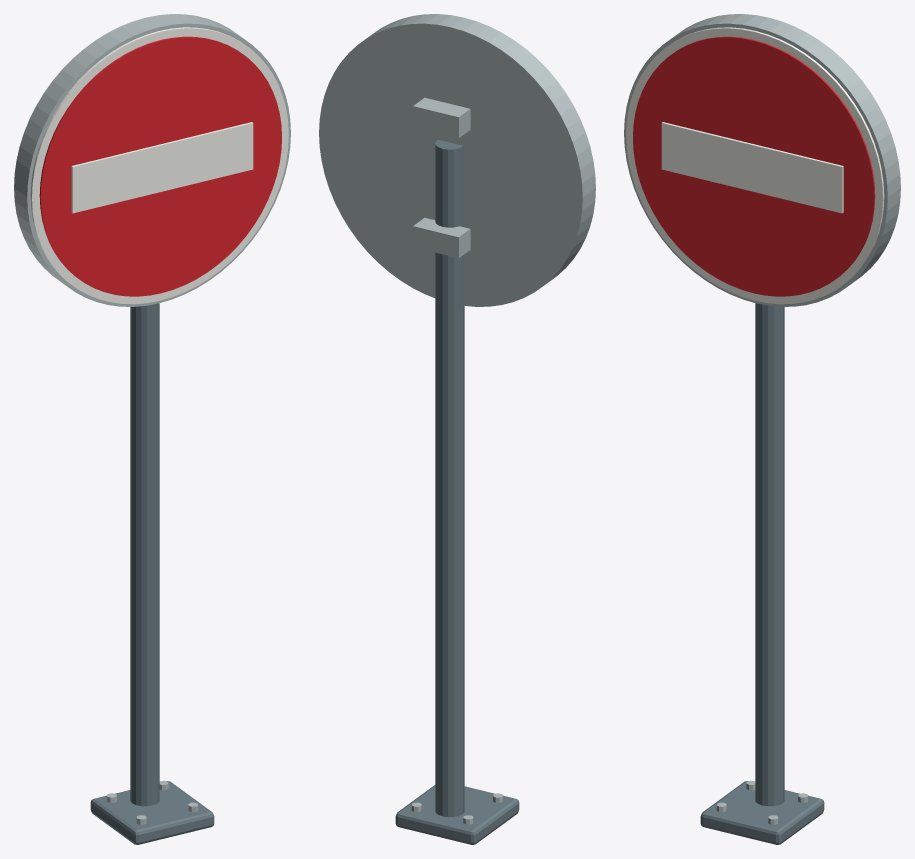
The model's file is SIMUS_Sign_NoEntry.glb.
3 renders of one model, left to right at view 1: azimuth 30°, elevation 25°; view 2: azimuth 150°, elevation 25°; view 3: azimuth 330°, elevation 25°, orthographic.
Visible parts, largest first — view 1: Red face.001, Post.002, No entry bar, Circle back.001, White rim.001, Foot plate.002; view 2: Circle back.001, Post.002, Foot plate.002, Rear clamp.005, Rear clamp.004; view 3: Red face.001, Post.002, No entry bar, Circle back.001, White rim.001, Foot plate.002.
Boxes of the visible parts, x1,y1,x2,y2 form: Red face.001: [39, 36, 281, 296]; Post.002: [130, 303, 159, 806]; No entry bar: [71, 122, 253, 213]; Circle back.001: [14, 14, 290, 306]; White rim.001: [30, 27, 288, 304]; Foot plate.002: [90, 781, 214, 844]; Circle back.001: [319, 14, 595, 306]; Post.002: [435, 139, 464, 817]; Foot plate.002: [395, 785, 519, 844]; Rear clamp.005: [413, 97, 470, 138]; Rear clamp.004: [413, 217, 470, 258]; Red face.001: [633, 36, 875, 296]; Post.002: [755, 303, 784, 806]; No entry bar: [661, 122, 843, 213]; Circle back.001: [624, 14, 900, 306]; White rim.001: [626, 27, 884, 304]; Foot plate.002: [700, 781, 824, 844].
Bounding box in the file's own units: 0.92 × 2.66 × 0.28.
